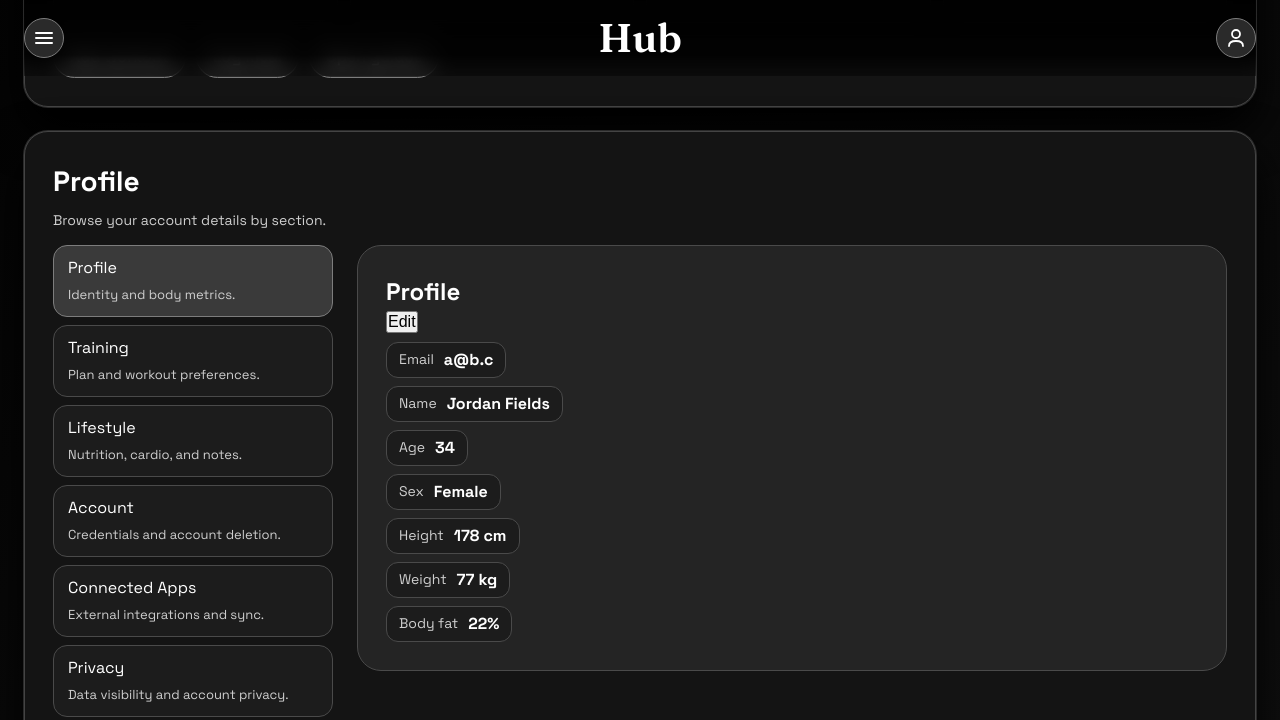
Test case: a signed-in visitor reads their stored profile › the Training tab shows the stored Timeline
This screenshot has width=1280, height=720.
(page scrolled)
Step 1. Click the tab "Training Plan and workout preferences." → (98, 347), box x1=53 y1=325 x2=333 y2=397
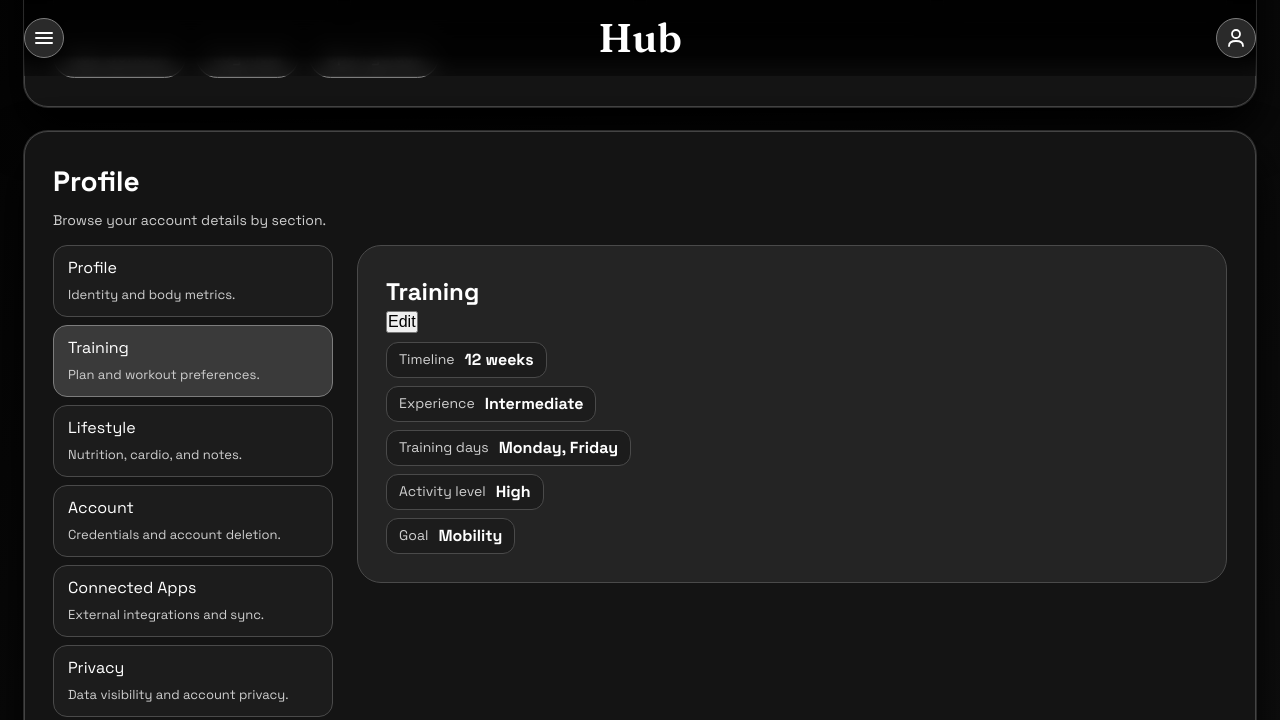
Now the text "12 weeks" is shown, box x1=465 y1=350 x2=534 y2=370
